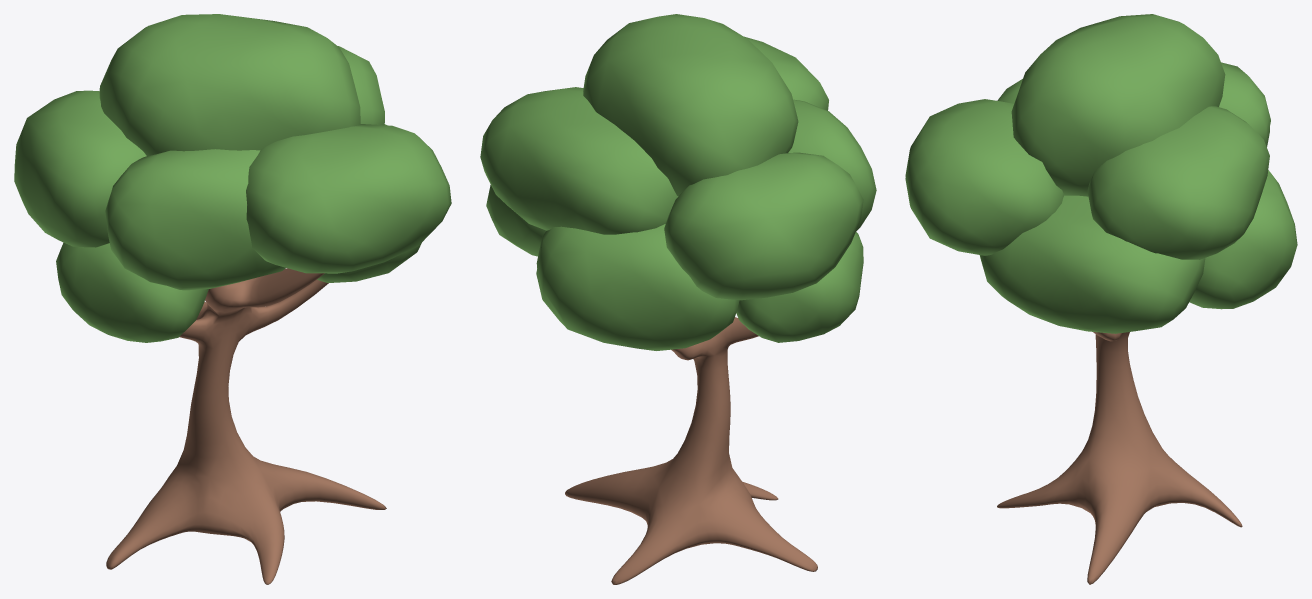
File: Baum_4.fbx
The picture shows the model from 3 angles, left to right: view 1: azimuth 30°, elevation 25°; view 2: azimuth 150°, elevation 25°; view 3: azimuth 270°, elevation 25°; orthographic projection. The views are drawn at different scales.
Visible parts, largest first — view 1: Cube.001, Cube; view 2: Cube.001, Cube; view 3: Cube.001, Cube.
Boxes of the visible parts, x1,y1,x2,y2 form: Cube.001: (14, 14, 451, 342); Cube: (106, 268, 386, 584); Cube.001: (480, 14, 876, 350); Cube: (565, 317, 817, 584); Cube.001: (905, 14, 1297, 333); Cube: (997, 332, 1242, 584).
Bounding box in the file's own units: 732 × 979 × 715.
